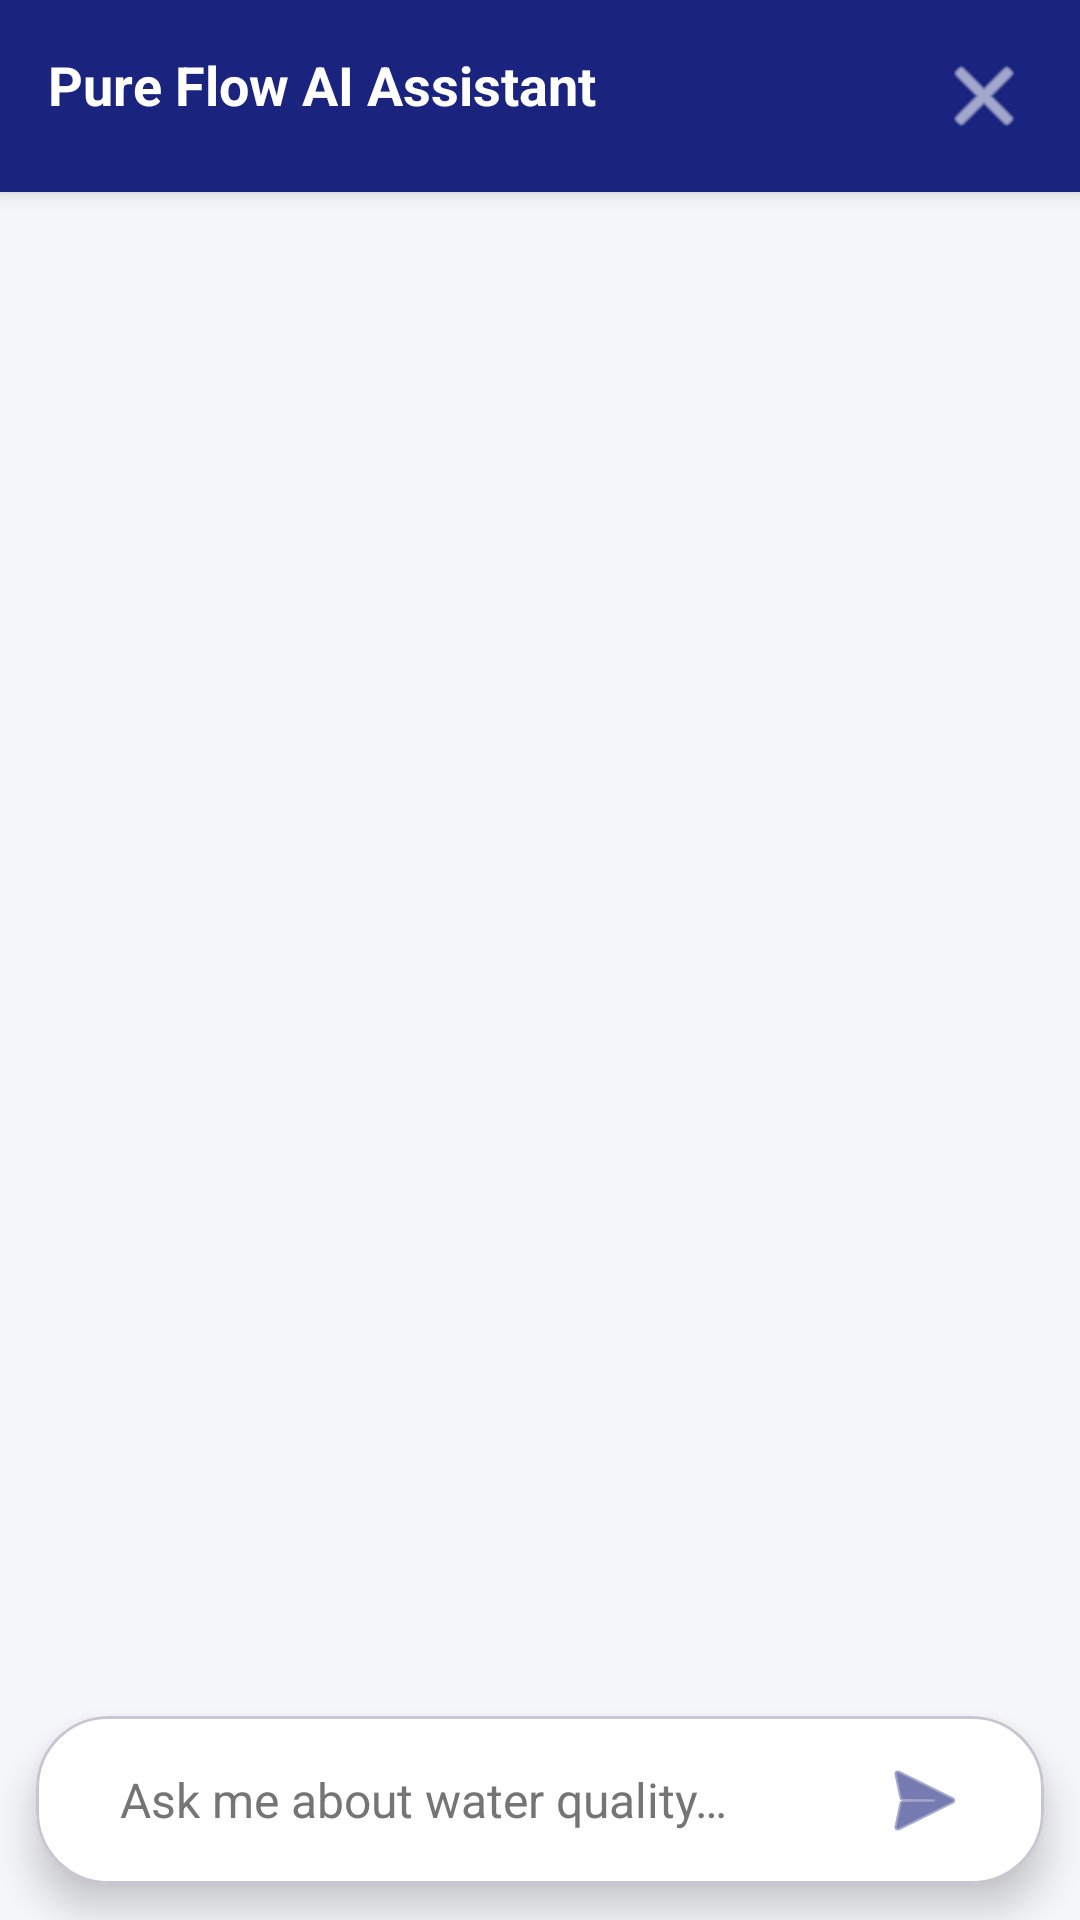

Point at icon controls on the screen. Image size 1080w x 1920h, points as (x,y).
Close chat: (984,96)
Send message: (925,1800)
